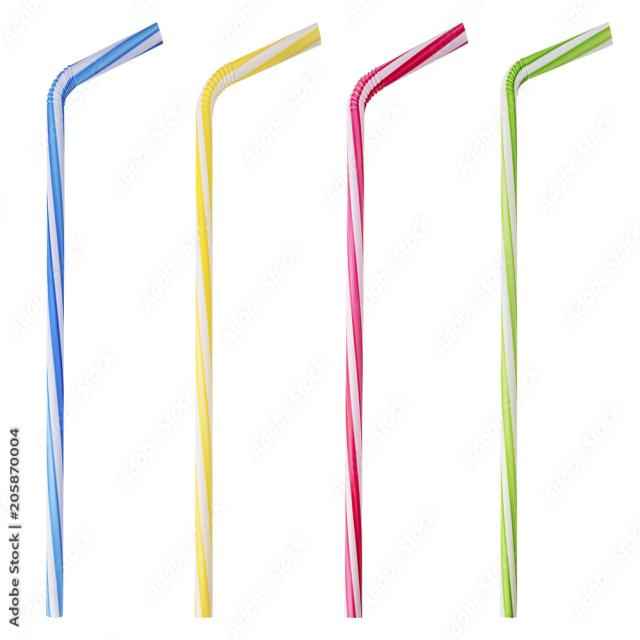plastic: (325, 14, 472, 626)
